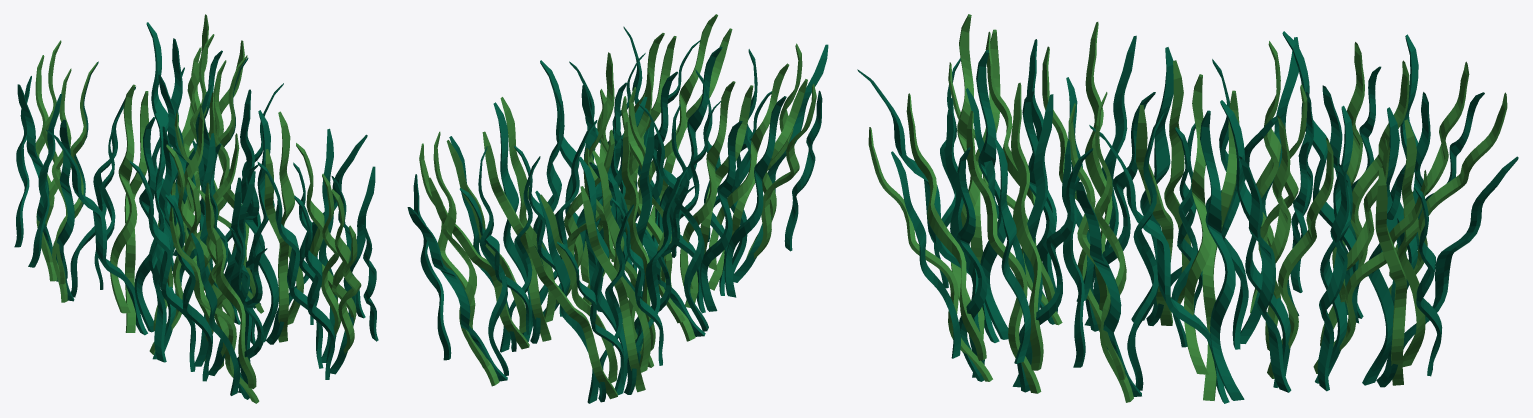
File: seaweed_1.fbx
3 views of the same model, side by side, from view 1: azimuth 30°, elevation 25°; view 2: azimuth 150°, elevation 25°; view 3: azimuth 270°, elevation 25° (orthographic). The views are drawn at different scales.
Visible parts, largest first — view 1: BezierCurve.058, BezierCurve.063, BezierCurve.024, BezierCurve.023, BezierCurve.059, BezierCurve.061, BezierCurve.025, BezierCurve.062, BezierCurve.060, BezierCurve.057, BezierCurve.029, BezierCurve.027 (+2 smaller); view 2: BezierCurve.059, BezierCurve.029, BezierCurve.028, BezierCurve.062, BezierCurve.057, BezierCurve.063, BezierCurve.060, BezierCurve.026, BezierCurve.058, BezierCurve.061, BezierCurve.023, BezierCurve.024 (+2 smaller); view 3: BezierCurve.027, BezierCurve.025, BezierCurve.029, BezierCurve.023, BezierCurve.028, BezierCurve.024, BezierCurve.063, BezierCurve.026, BezierCurve.062, BezierCurve.061, BezierCurve.058, BezierCurve.059 (+2 smaller).
Boxes of the visible parts, x1,y1,x2,y2 form: BezierCurve.058: [46, 84, 161, 335]; BezierCurve.063: [169, 177, 267, 403]; BezierCurve.024: [251, 110, 367, 344]; BezierCurve.023: [294, 166, 378, 379]; BezierCurve.059: [28, 62, 135, 302]; BezierCurve.061: [148, 105, 239, 362]; BezierCurve.025: [257, 128, 365, 368]; BezierCurve.062: [129, 133, 240, 371]; BezierCurve.060: [165, 171, 255, 381]; BezierCurve.057: [14, 40, 98, 281]; BezierCurve.029: [146, 14, 244, 270]; BezierCurve.027: [174, 89, 264, 313]; BezierCurve.059: [579, 150, 687, 395]; BezierCurve.029: [407, 131, 508, 386]; BezierCurve.028: [482, 97, 597, 343]; BezierCurve.062: [639, 81, 753, 313]; BezierCurve.057: [525, 191, 633, 403]; BezierCurve.063: [730, 43, 828, 282]; BezierCurve.060: [695, 63, 807, 297]; BezierCurve.026: [428, 136, 540, 352]; BezierCurve.058: [583, 121, 695, 367]; BezierCurve.061: [589, 87, 708, 341]; BezierCurve.023: [623, 14, 732, 249]; BezierCurve.024: [540, 52, 652, 311]; BezierCurve.027: [1089, 74, 1244, 403]; BezierCurve.025: [966, 82, 1093, 393]; BezierCurve.029: [1362, 107, 1518, 387]; BezierCurve.023: [868, 93, 992, 381]; BezierCurve.028: [1220, 100, 1333, 392]; BezierCurve.024: [1062, 92, 1163, 402]; BezierCurve.063: [857, 14, 1008, 342]; BezierCurve.026: [1313, 105, 1427, 391]; BezierCurve.062: [1042, 22, 1155, 331]; BezierCurve.061: [1131, 47, 1286, 325]; BezierCurve.058: [1212, 37, 1313, 349]; BezierCurve.059: [1282, 31, 1409, 318].
Bounding box in the file's own units: 632 × 618 × 1218.
